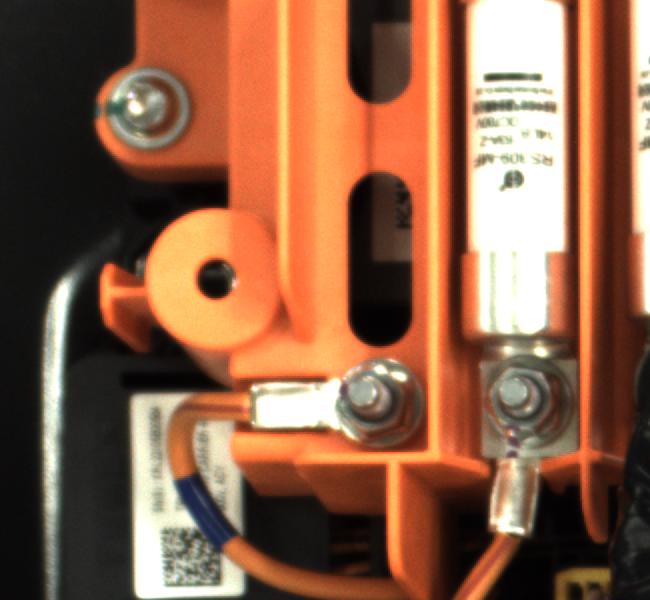screw_s: (460, 336, 577, 454), (334, 343, 416, 449)
